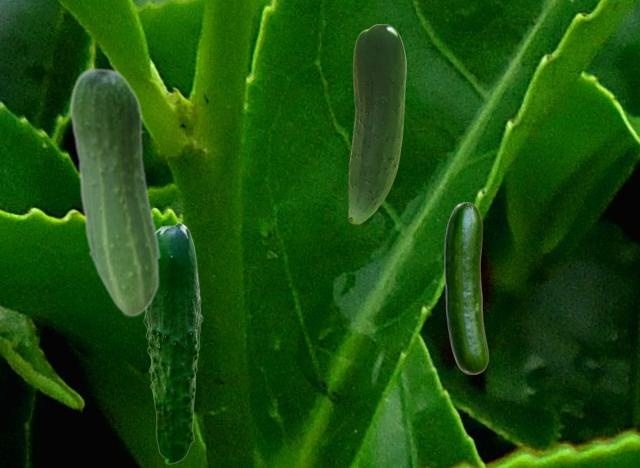cucumber: (69, 66, 160, 316), (143, 222, 202, 463), (348, 24, 405, 223), (444, 202, 487, 373)
